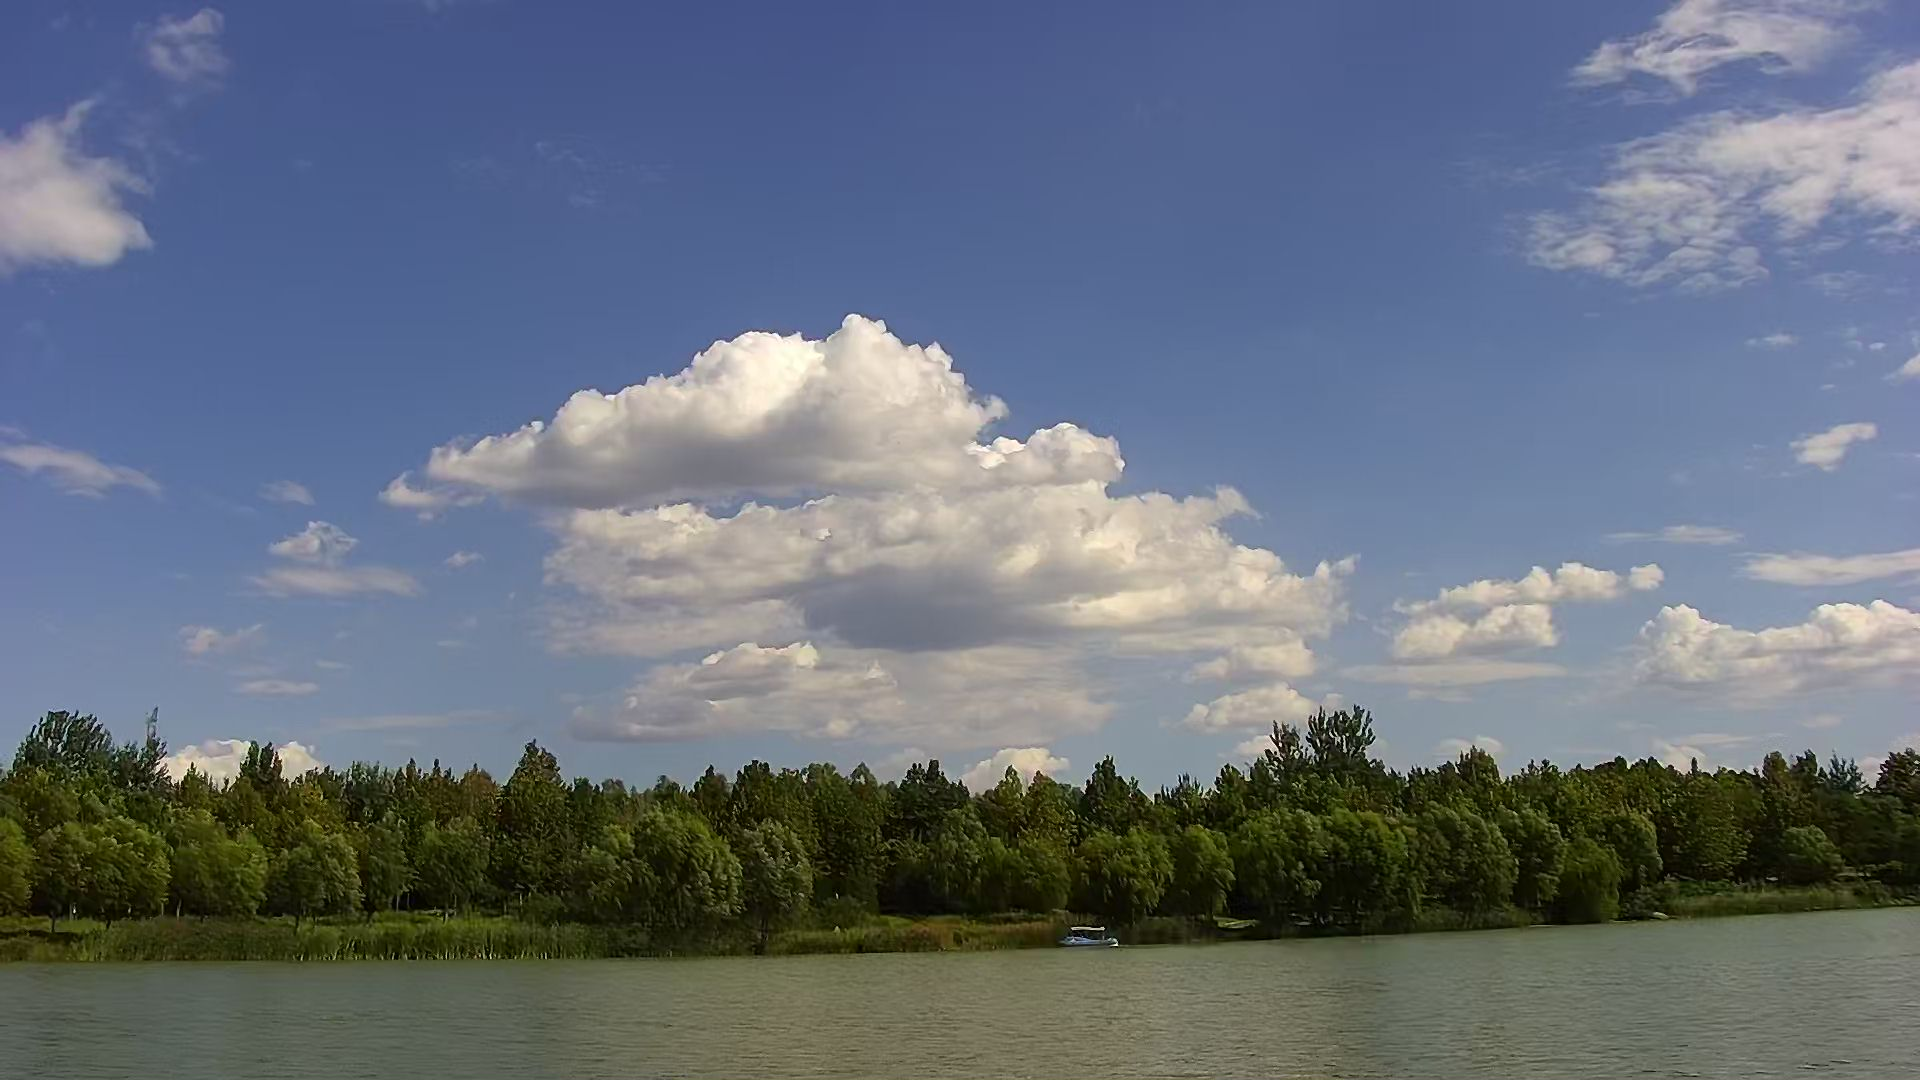boat: (1054, 920, 1124, 951)
